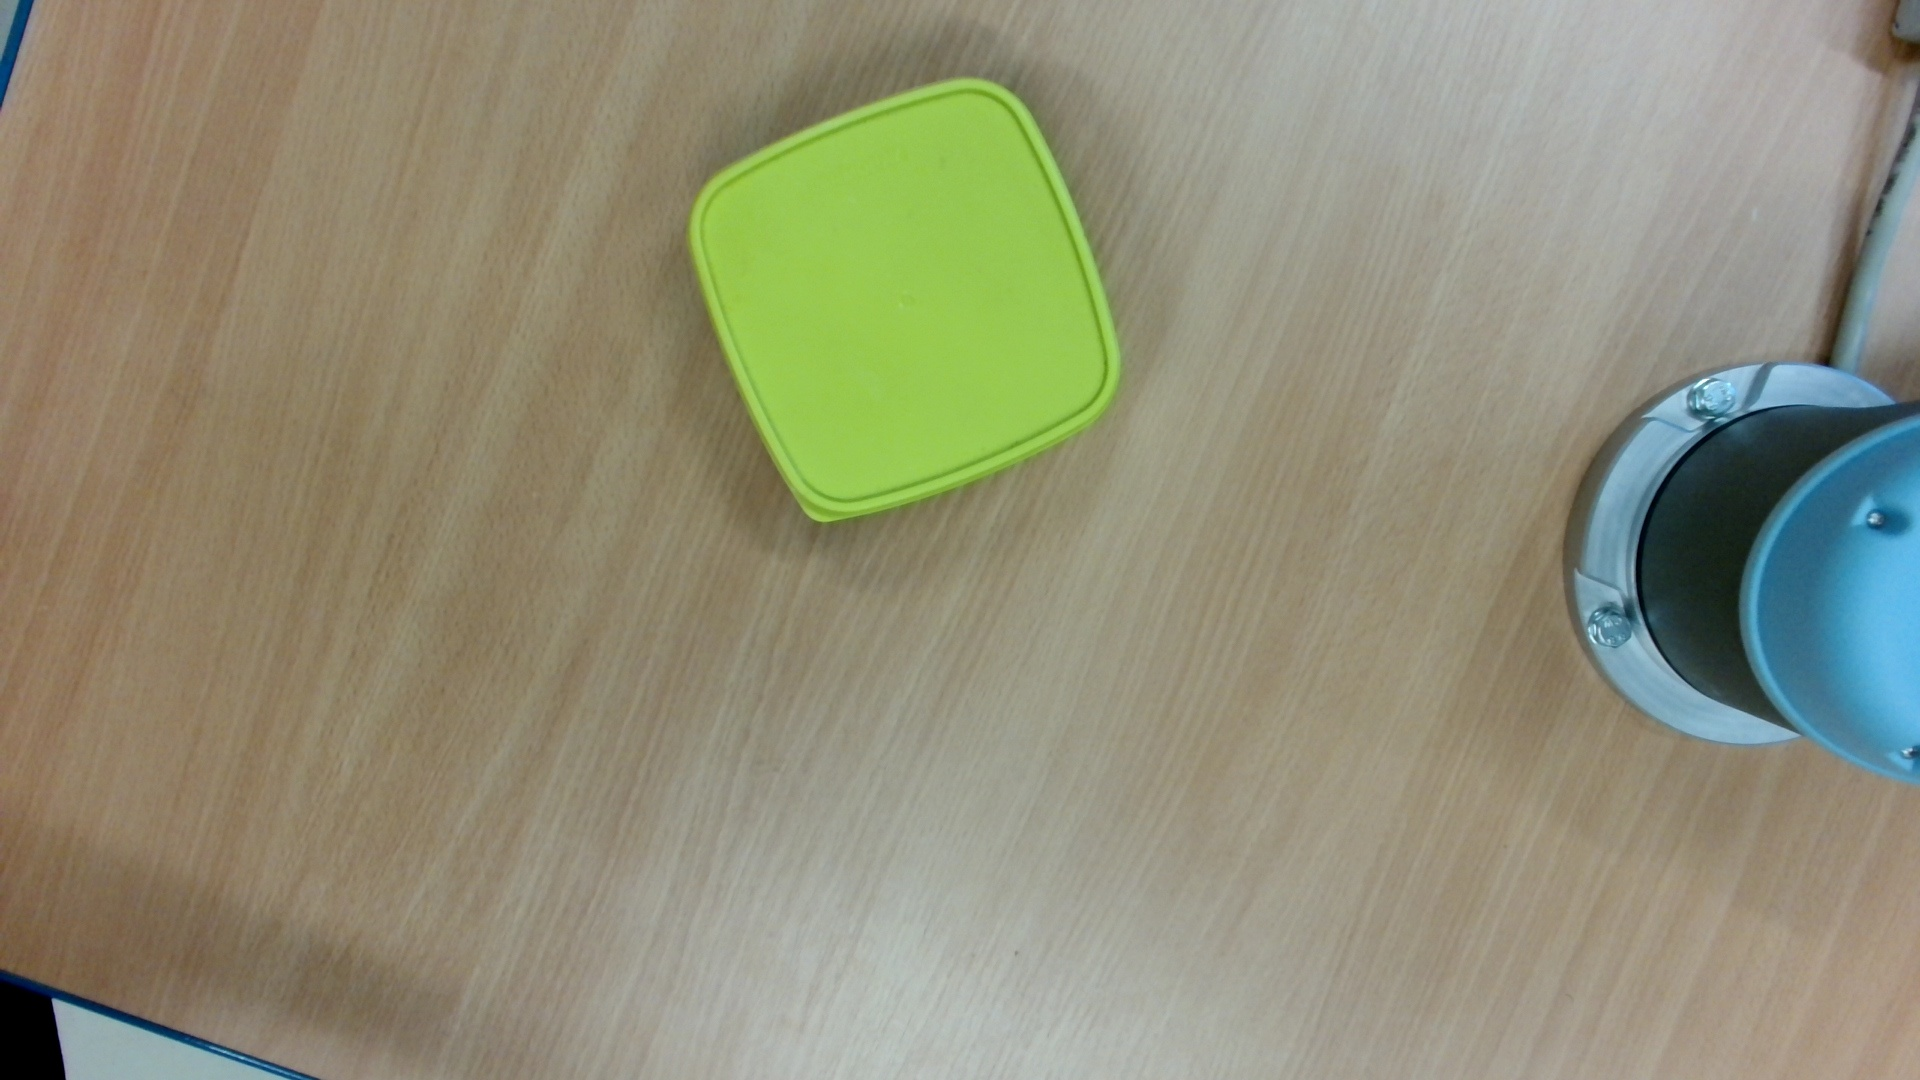Box: (680, 69, 1129, 546)
